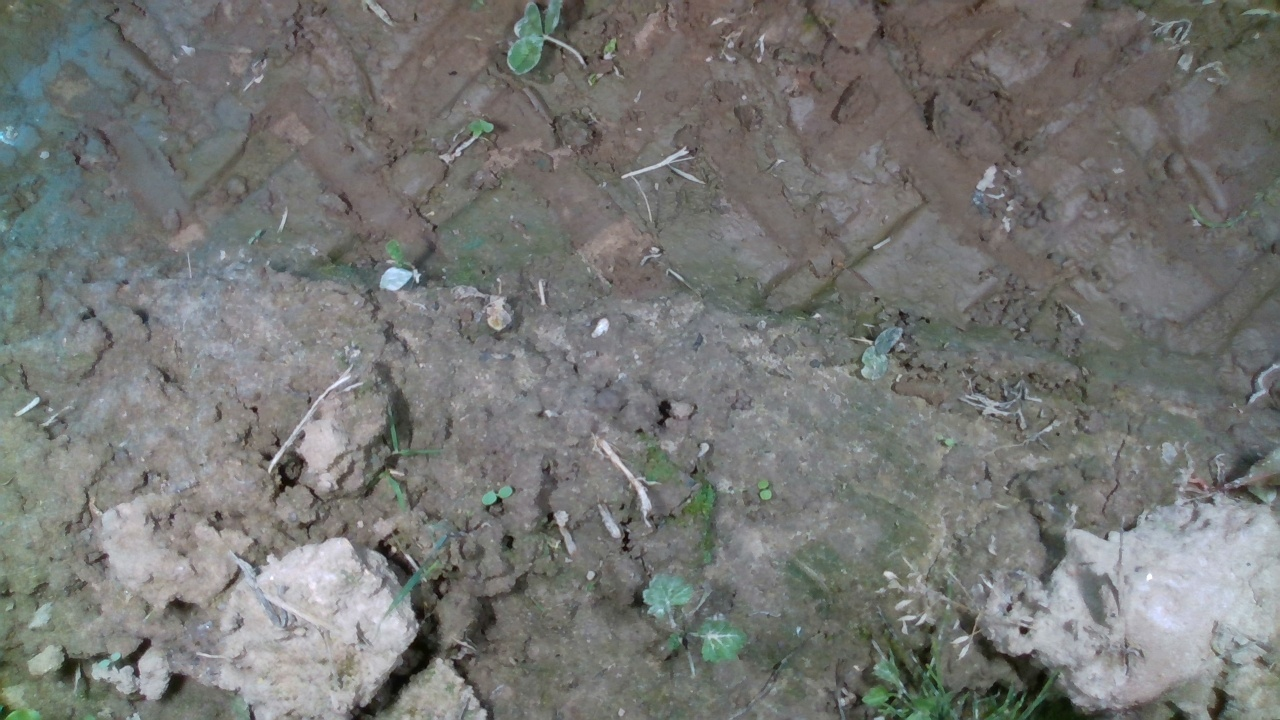weed: (756, 477, 772, 501)
